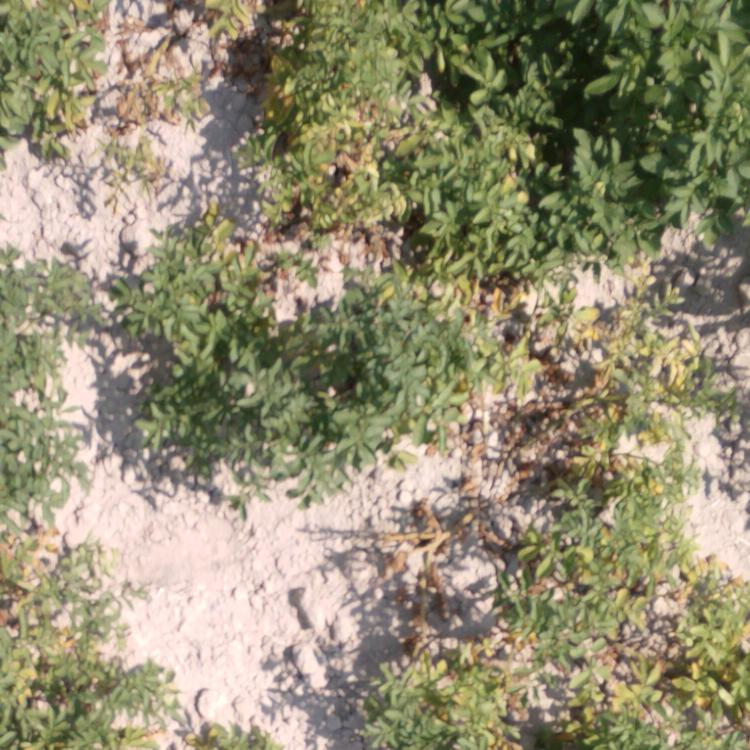healthy: (421, 1, 596, 262), (257, 282, 461, 490), (612, 1, 747, 263), (1, 248, 87, 521), (124, 360, 244, 479)
stressed: (491, 495, 750, 621), (251, 1, 411, 202), (547, 292, 699, 494), (1, 1, 246, 123), (1, 531, 137, 748), (533, 615, 747, 750), (371, 617, 519, 750), (126, 204, 253, 349), (460, 280, 536, 410), (391, 508, 480, 614)
